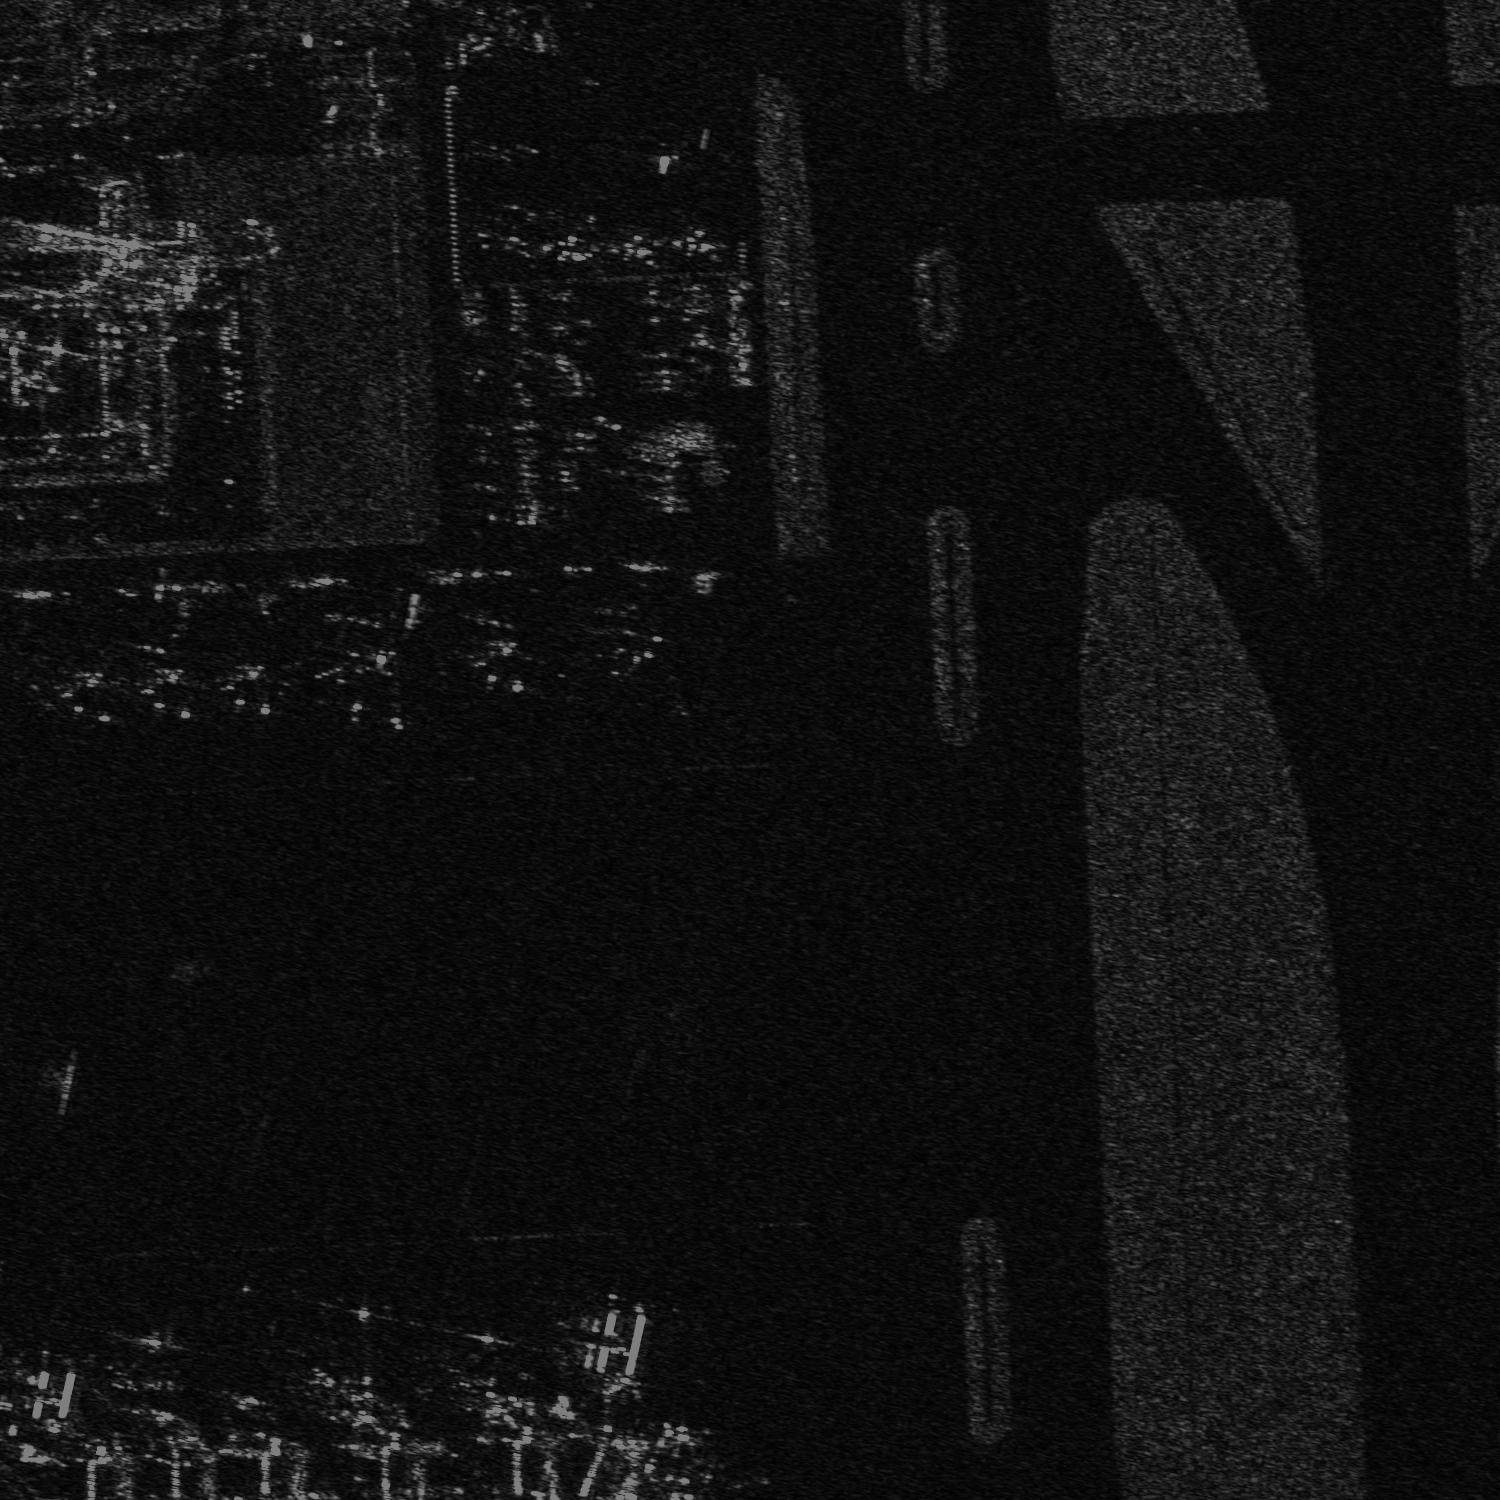A220: (85, 1317, 196, 1405)
A320/321: (283, 1291, 396, 1407), (427, 1317, 532, 1405)
ARJ21: (543, 231, 600, 264)
Boeing737: (470, 615, 545, 695), (596, 609, 670, 673), (130, 663, 206, 724), (220, 659, 293, 716), (54, 669, 124, 723)
other: (313, 636, 446, 731), (607, 227, 663, 268), (670, 225, 728, 265)
